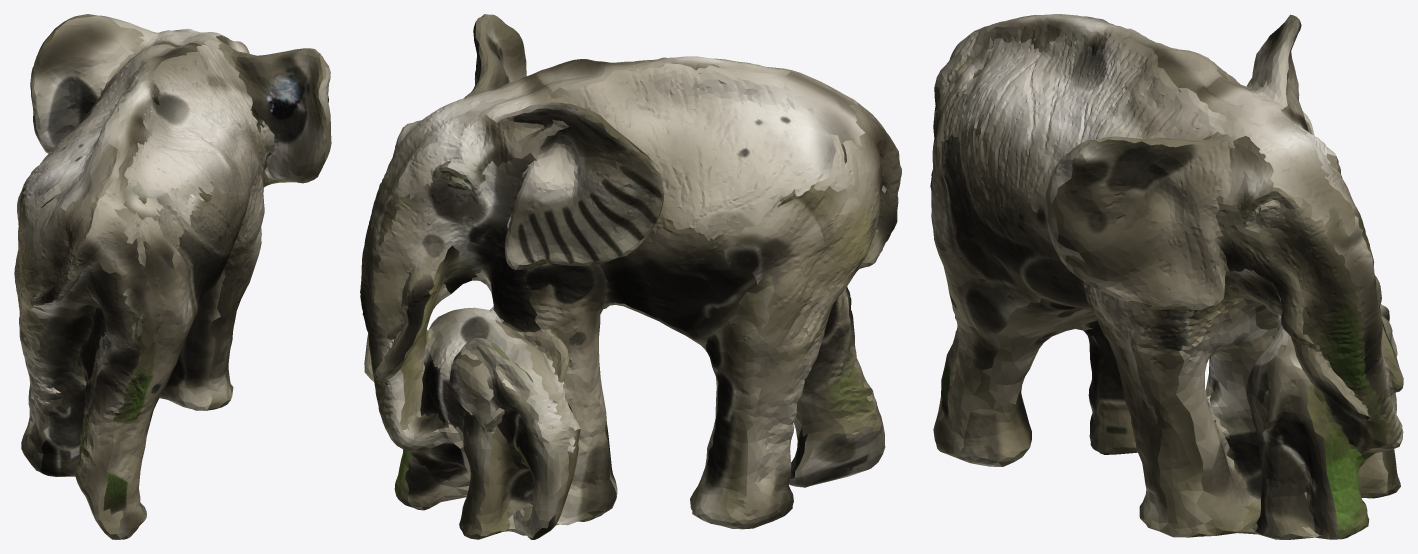
The model's file is textured_paint3d.glb.
3 views of the same model, side by side, from view 1: azimuth 30°, elevation 25°; view 2: azimuth 150°, elevation 25°; view 3: azimuth 270°, elevation 25° (orthographic). The views are drawn at different scales.
Parts seen in each view (by area): view 1: Node-Mesh; view 2: Node-Mesh; view 3: Node-Mesh.
Part boxes in pixels (box(x1,y1,x2,y2)): Node-Mesh: box(14, 14, 331, 539); Node-Mesh: box(360, 14, 901, 539); Node-Mesh: box(930, 14, 1403, 539).
Bounding box in the file's own units: 1.67 × 2 × 1.74.
1 material, 1 textured.
